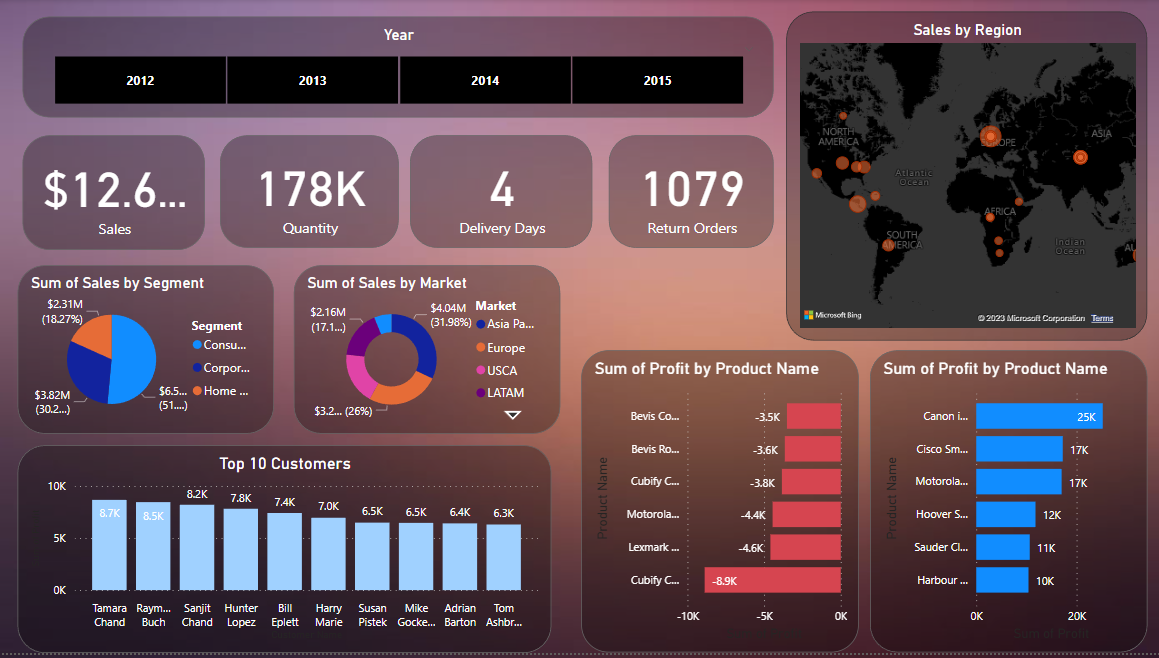

Layout of this report page (visuals, bound fields, positions):
{"tool":"powerbi","page":{"name":"Page 1","canvas":[1280,720],"ordinal":0},"visuals":[{"type":"card","fields":{"Values":["Orders.Sales"]},"box":[24.8,150.1,201,126.7],"z":0},{"type":"card","fields":{"Values":["Orders.Quantity"]},"box":[242.3,150.1,196.9,123.9],"z":1000},{"type":"card","fields":{"Values":["Orders.Delivery Days"]},"box":[451.5,150.1,201,123.9],"z":2000},{"type":"slicer","title":"Year","fields":{"Values":["Orders.Year"]},"box":[24.8,19.3,827.4,111.5],"z":3000},{"type":"card","fields":{"Values":["Returns.Return Orders"]},"box":[670.4,150.1,181.7,123.9],"z":4000},{"type":"map","title":"Sales by Region","fields":{"Category":["Orders.Region"],"Size":["Orders.Sales"]},"box":[865.9,13.8,397.9,362.1],"z":5000},{"type":"barChart","fields":{"Y":["Orders.Profit"],"Category":["Orders.Product Name"]},"box":[958.1,386.8,305.6,333.1],"z":6000},{"type":"barChart","fields":{"Y":["Orders.Profit"],"Category":["Orders.Product Name"]},"box":[640.1,386.8,305.6,333.1],"z":7000},{"type":"pieChart","fields":{"Category":["Orders.Segment"],"Y":["Orders.Sales"]},"box":[19.3,293.2,282.2,185.8],"z":8000},{"type":"donutChart","fields":{"Category":["Orders.Market"],"Y":["Orders.Sales"]},"box":[323.5,293.2,293.2,185.8],"z":9000},{"type":"columnChart","title":"Top 10 Customers","fields":{"Category":["Orders.Customer Name"],"Y":["Orders.Profit"]},"box":[19.3,491.5,587.8,228.5],"z":10000}]}

Visuals, with their boxes in screenshot pixels (x1, y1, x2, y2), scaled from the page's 1280x720 canvas onto the 1159x658 screenshot:
card - Orders.Sales: [x1=22, y1=137, x2=204, y2=253]
card - Orders.Quantity: [x1=219, y1=137, x2=398, y2=250]
card - Orders.Delivery Days: [x1=409, y1=137, x2=591, y2=250]
"Year" slicer: [x1=22, y1=18, x2=772, y2=120]
card - Returns.Return Orders: [x1=607, y1=137, x2=772, y2=250]
"Sales by Region" map: [x1=784, y1=13, x2=1144, y2=344]
barChart - Orders.Profit x Orders.Product Name: [x1=868, y1=353, x2=1144, y2=657]
barChart - Orders.Profit x Orders.Product Name: [x1=580, y1=353, x2=856, y2=657]
pieChart - Orders.Segment x Orders.Sales: [x1=17, y1=268, x2=273, y2=438]
donutChart - Orders.Market x Orders.Sales: [x1=293, y1=268, x2=558, y2=438]
"Top 10 Customers" columnChart: [x1=17, y1=449, x2=550, y2=657]
